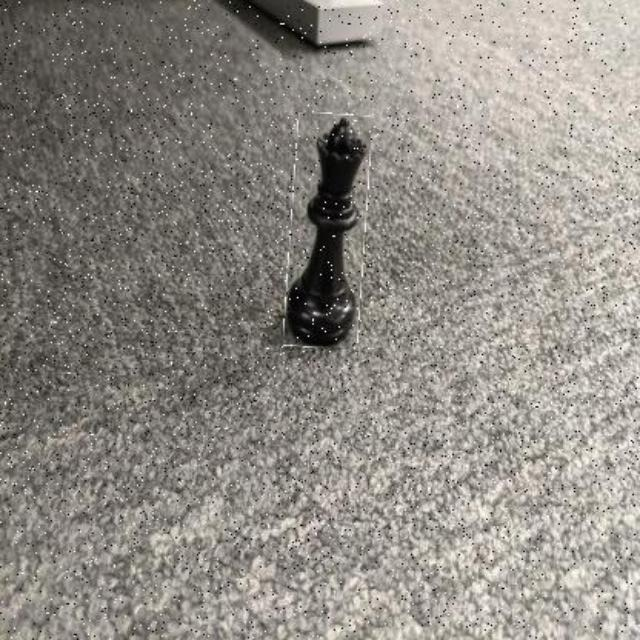black-queen: (287, 113, 368, 348)
